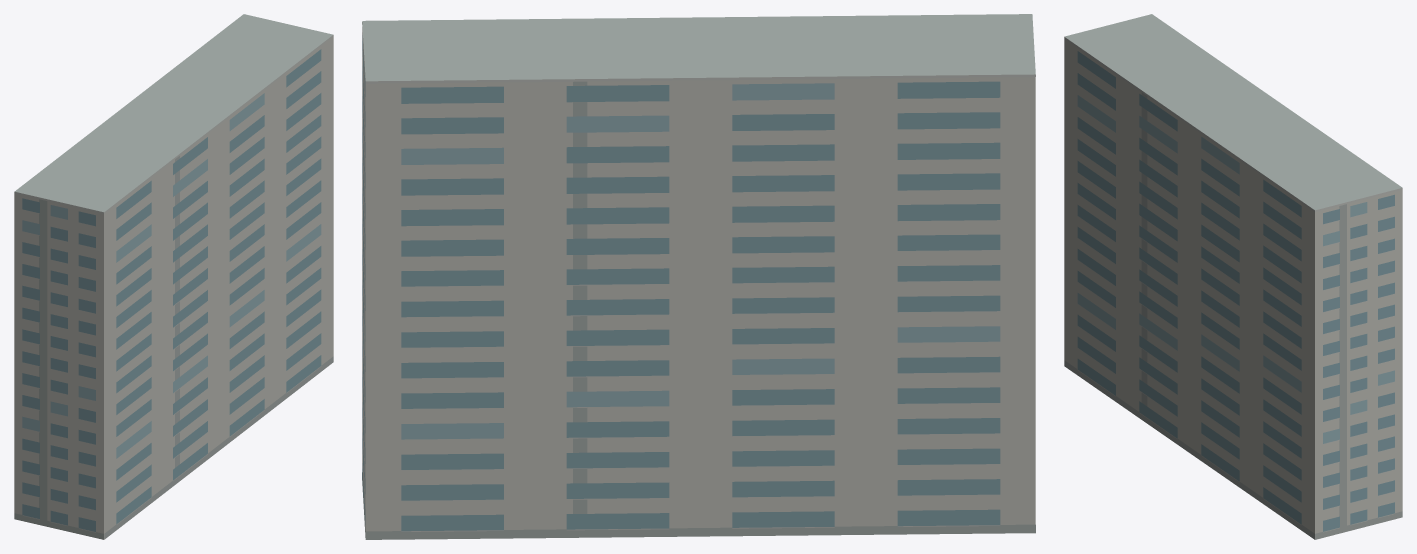
File: residential-480c532a-7345-4f7f-bd65-bb9df39945a0.glb
The picture shows the model from 3 angles, left to right: view 1: azimuth 30°, elevation 25°; view 2: azimuth 150°, elevation 25°; view 3: azimuth 270°, elevation 25°; orthographic projection. The views are drawn at different scales.
Visible parts, largest first — view 1: residential-480c532a-7345-4f7f-bd65-bb9df39945a0.tmp; view 2: residential-480c532a-7345-4f7f-bd65-bb9df39945a0.tmp; view 3: residential-480c532a-7345-4f7f-bd65-bb9df39945a0.tmp.
Boxes of the visible parts, box(x1,y1,x2,y2) form: residential-480c532a-7345-4f7f-bd65-bb9df39945a0.tmp: box(14, 14, 333, 539); residential-480c532a-7345-4f7f-bd65-bb9df39945a0.tmp: box(362, 14, 1035, 539); residential-480c532a-7345-4f7f-bd65-bb9df39945a0.tmp: box(1064, 14, 1402, 539).
Size of the model in its own units: 53.69 by 42 by 39.12.
